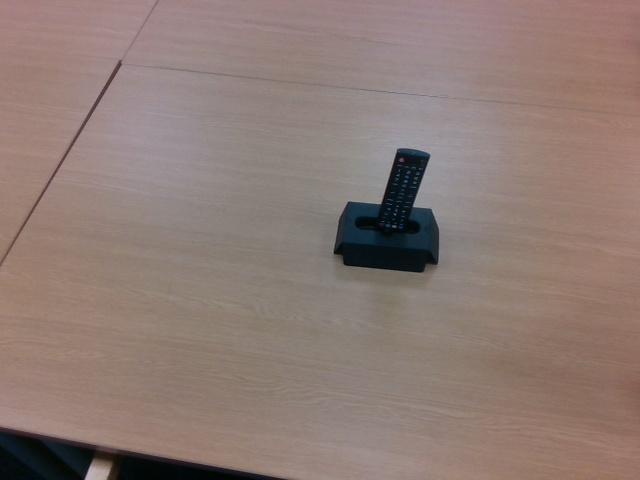remote: (377, 148, 429, 233)
